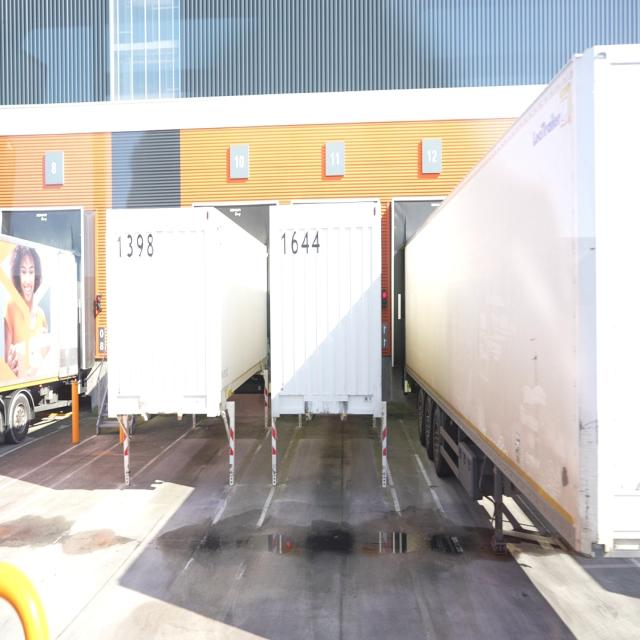Code: (276, 223, 326, 259), (113, 227, 155, 266)
